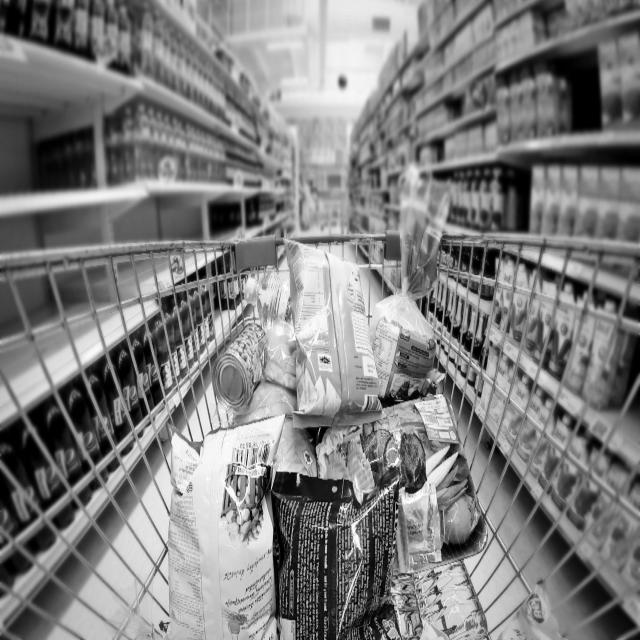bread: (364, 193, 458, 401)
oil: (244, 263, 292, 330)
